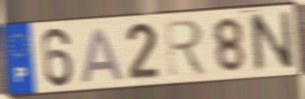2: (127, 20, 164, 84)
6: (40, 26, 74, 89)
8: (209, 16, 249, 75)
A: (79, 26, 126, 85)
N: (246, 8, 297, 75)
R: (162, 17, 210, 78)
